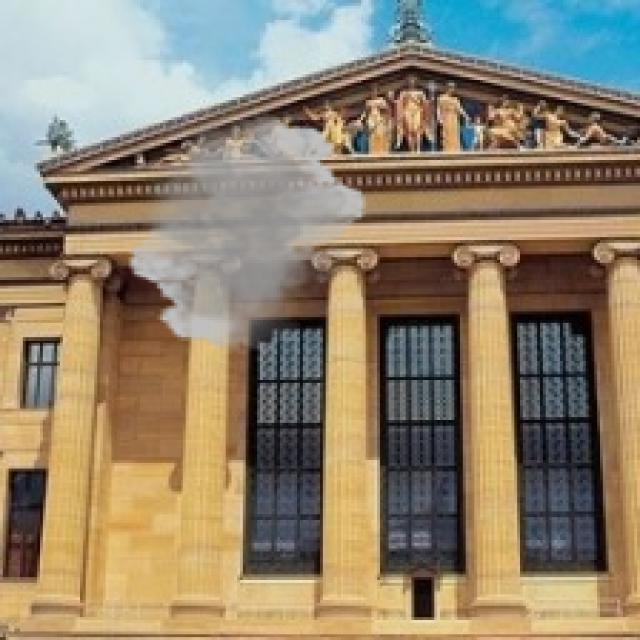Smoke: (125, 112, 368, 354)
